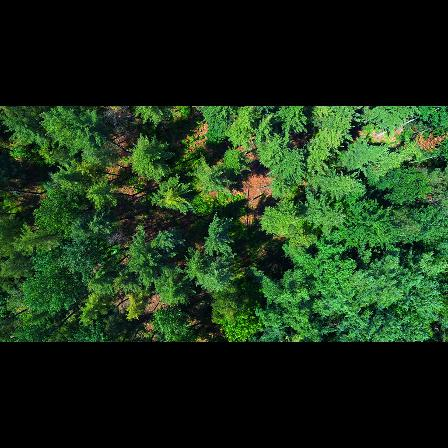Dead: (101, 225, 133, 247)
